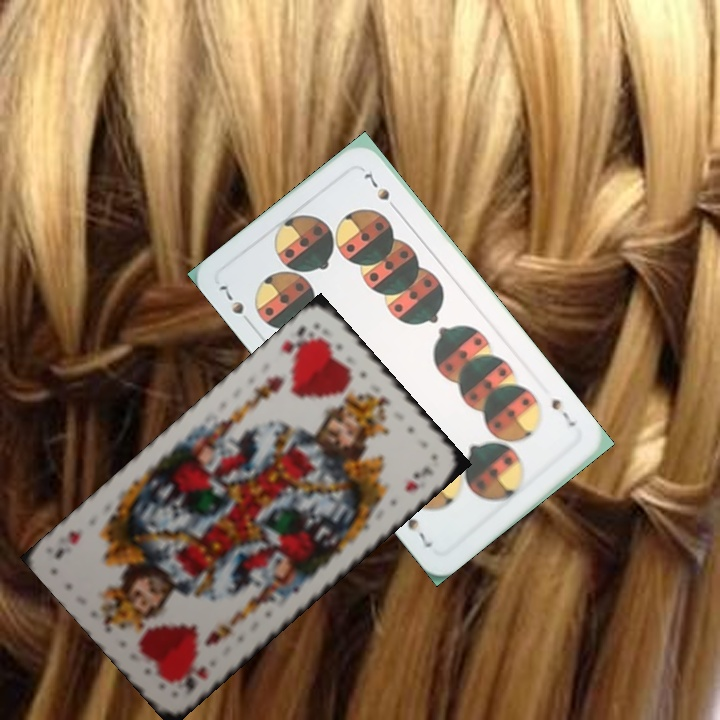HK: (277, 322, 322, 364), (180, 661, 210, 696)
S7: (215, 280, 256, 329), (547, 394, 579, 430)
